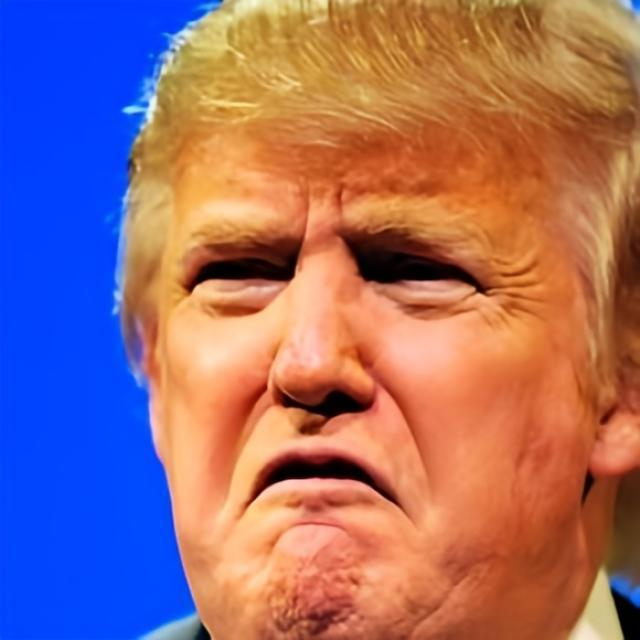disgust: (162, 64, 584, 638)
